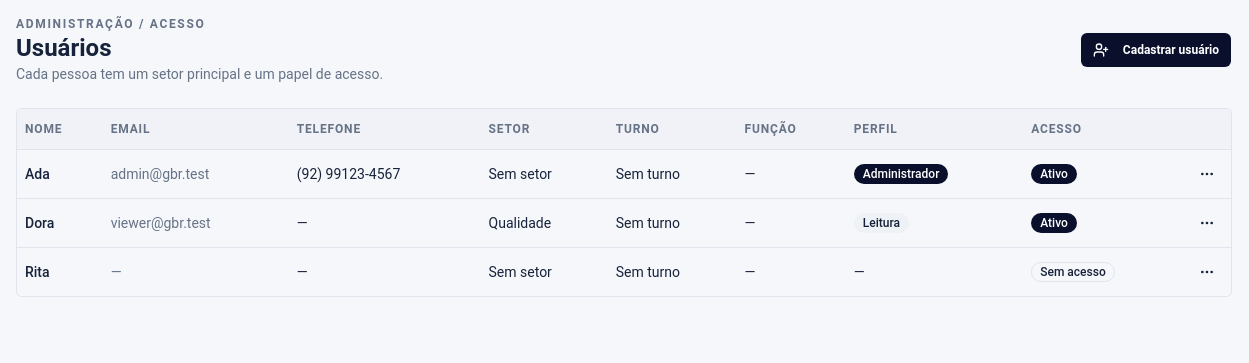
Test: UsersPage pessoa sem acesso › quem tem acesso mantém Resetar senha e não ganha Dar acesso
The width and height of the screenshot is (1249, 363).
Click the button named "Ações" in the row of "admin@gbr.test" at (1207, 174), box [1191, 158, 1223, 190]
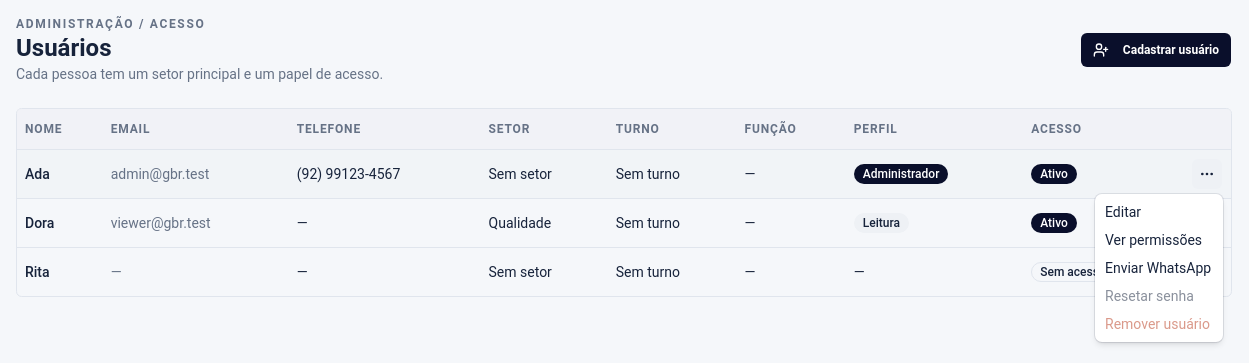
Now the menu item "Resetar senha" is shown, box [1105, 288, 1194, 304]
